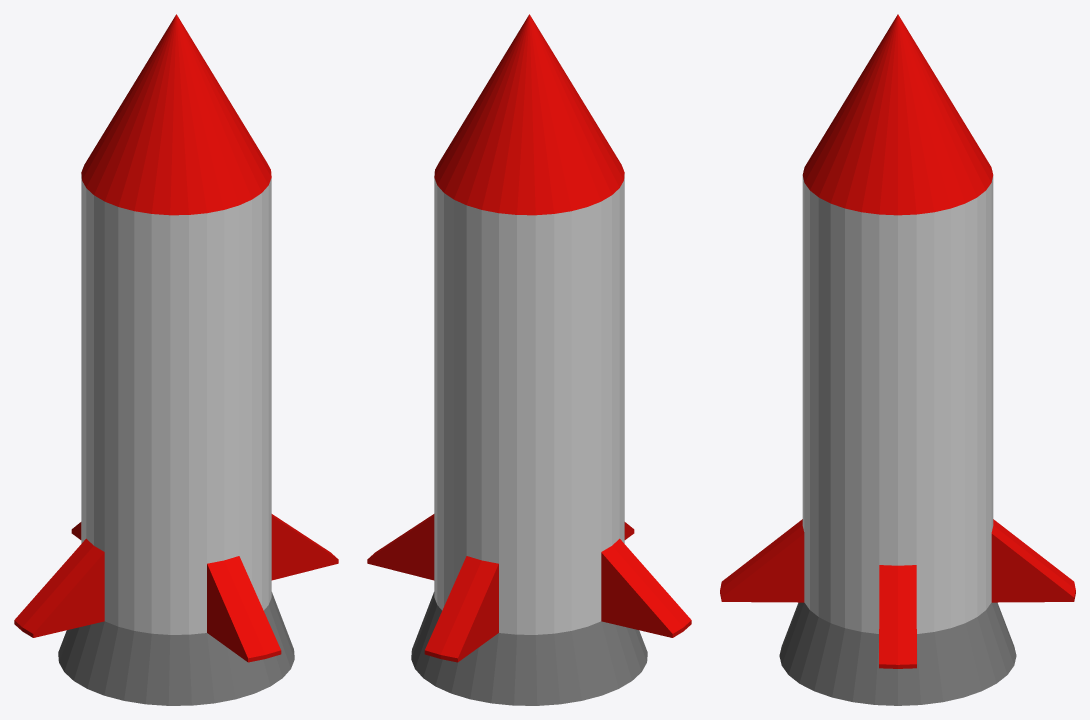
File: rocket.glb
3 renders of one model, left to right at view 1: azimuth 30°, elevation 25°; view 2: azimuth 150°, elevation 25°; view 3: azimuth 270°, elevation 25°, orthographic.
Visible parts, largest first — view 1: Cylinder; view 2: Cylinder; view 3: Cylinder.
Boxes of the visible parts, box(x1,y1,x2,y2) form: Cylinder: box(14, 14, 338, 705); Cylinder: box(367, 14, 691, 705); Cylinder: box(720, 14, 1075, 705).
Bounding box in the file's own units: 1.58 × 3.15 × 1.58.
